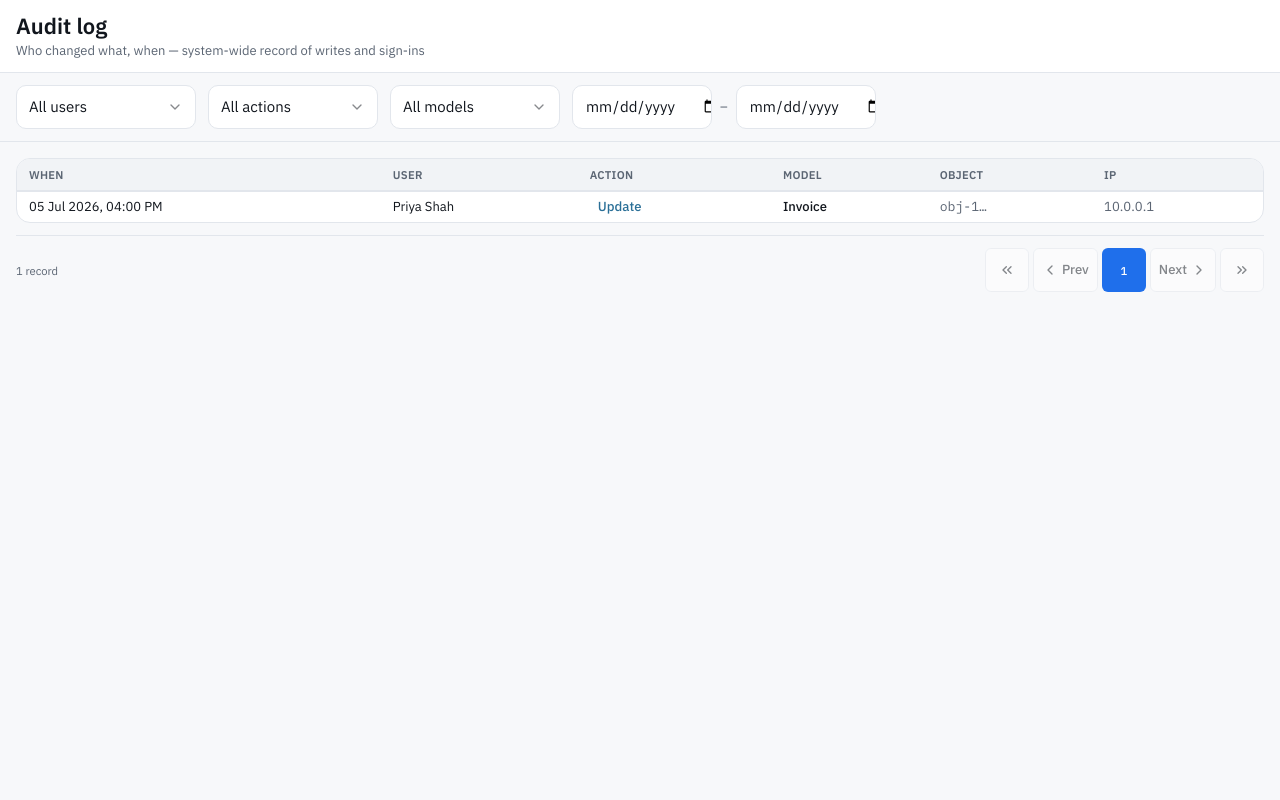
Test: AuditPage › opens a detail dialog with old/new values on row click
Step 1. Click the text "Invoice" → (805, 206), box [783,198,827,215]
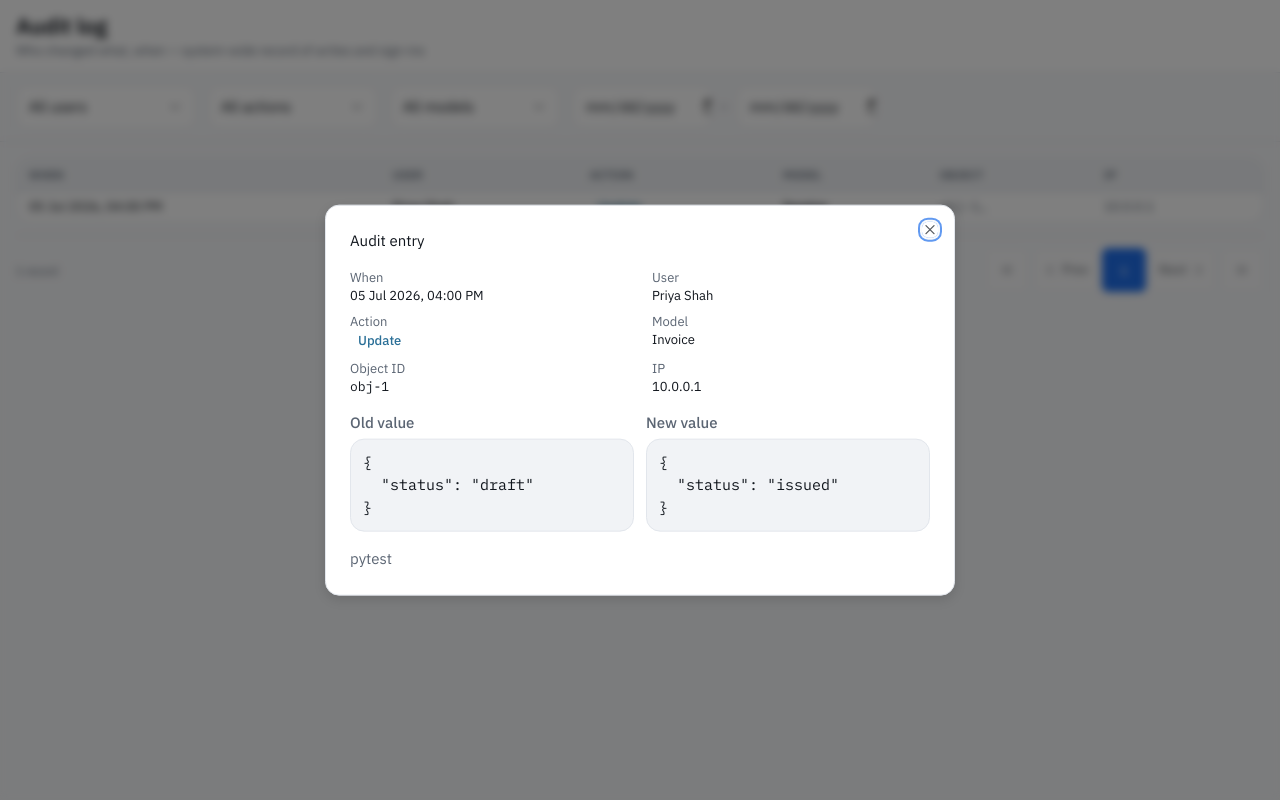
Now the heading "Audit entry" is shown, box [350,231,425,250]
Now the text "{ \"status\": \"draft\" }" is shown, box [350,438,634,532]
Now the text "{ \"status\": \"issued\" }" is shown, box [646,438,930,532]
